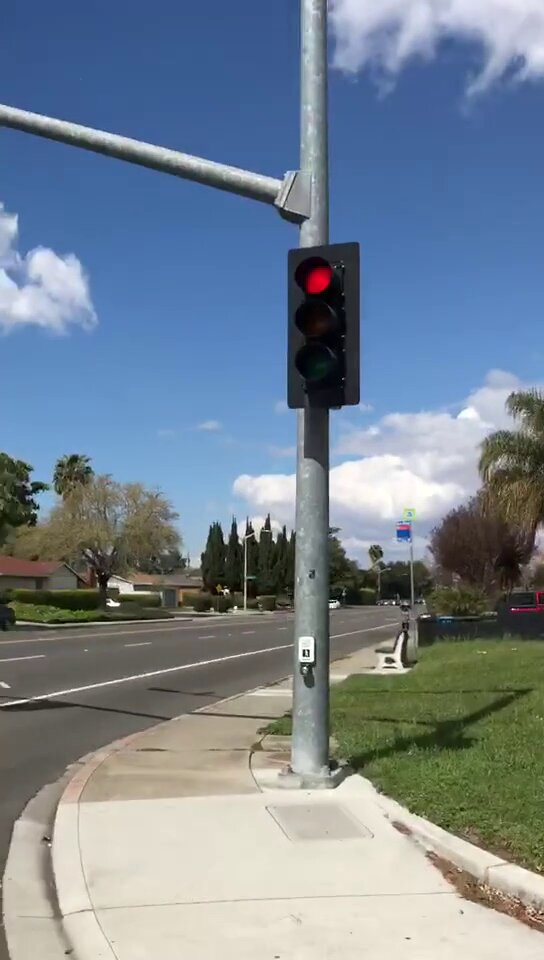red_light: (289, 248, 358, 405)
